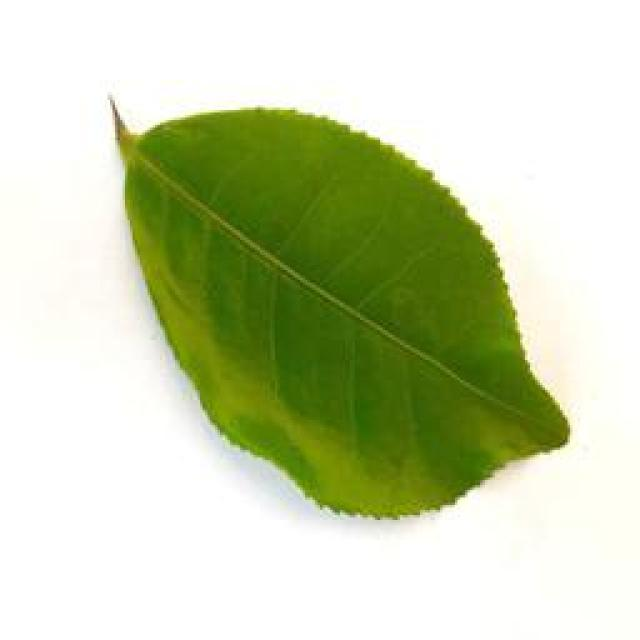Healthy: (98, 80, 568, 524)
